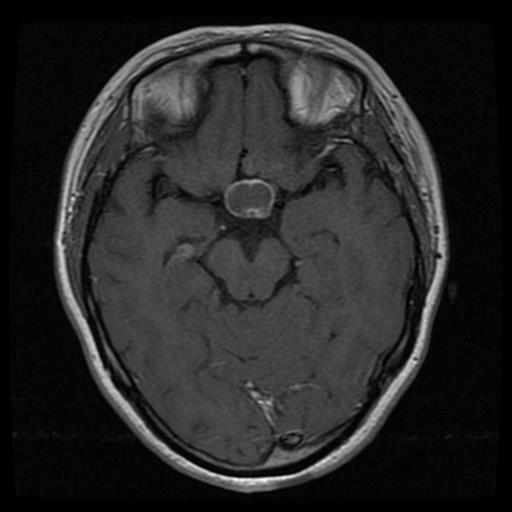Tumour-Pituitary: (225, 180, 280, 226)
